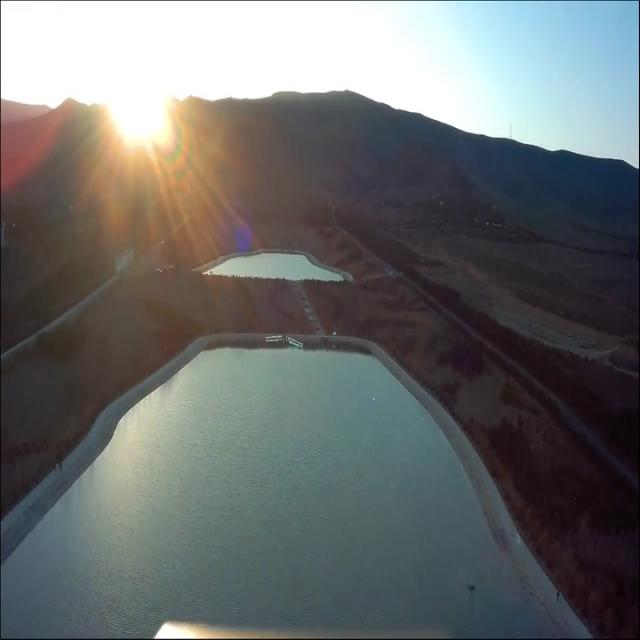iha: (265, 335, 303, 348)
